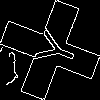Y: (25, 25, 80, 72)
